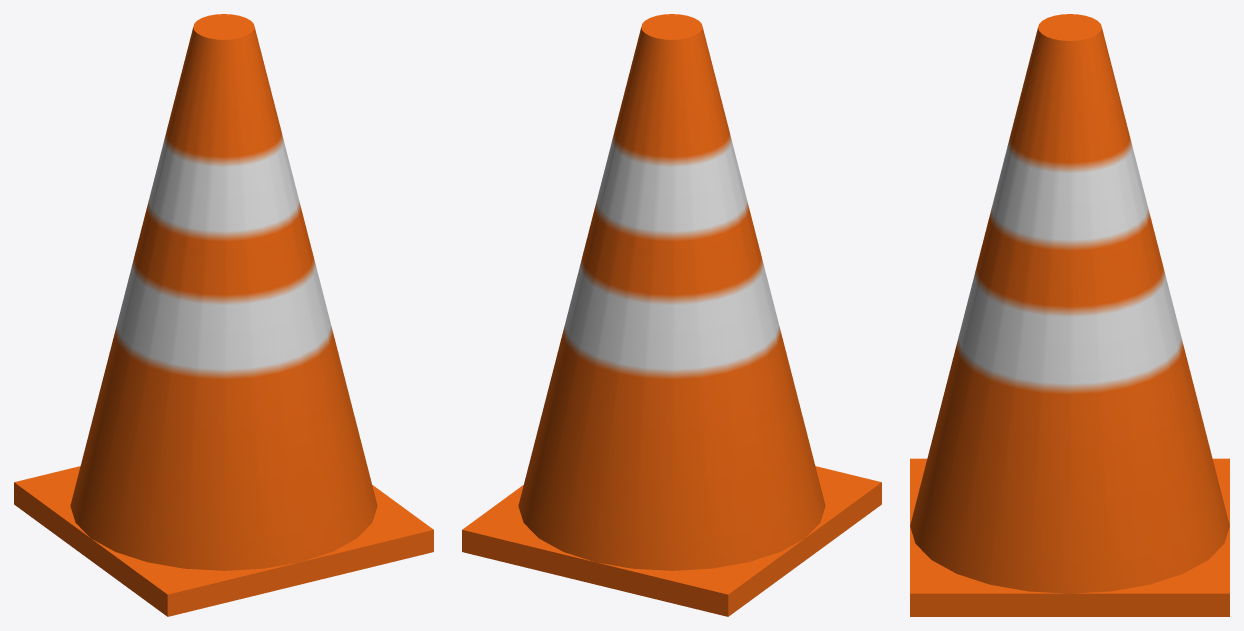
Rendered from physicar_cone.dae.
The picture shows the model from 3 angles, left to right: view 1: azimuth 30°, elevation 25°; view 2: azimuth 150°, elevation 25°; view 3: azimuth 270°, elevation 25°; orthographic projection. The views are drawn at different scales.
Visible parts, largest first — view 1: physicar_cone; view 2: physicar_cone; view 3: physicar_cone.
Boxes of the visible parts, x1,y1,x2,y2 form: physicar_cone: (14, 14, 433, 616); physicar_cone: (462, 14, 881, 616); physicar_cone: (910, 14, 1229, 616).
Size of the model in its own units: 0.25 by 0.25 by 0.45.
Materials: 3 (1 with a texture image).
